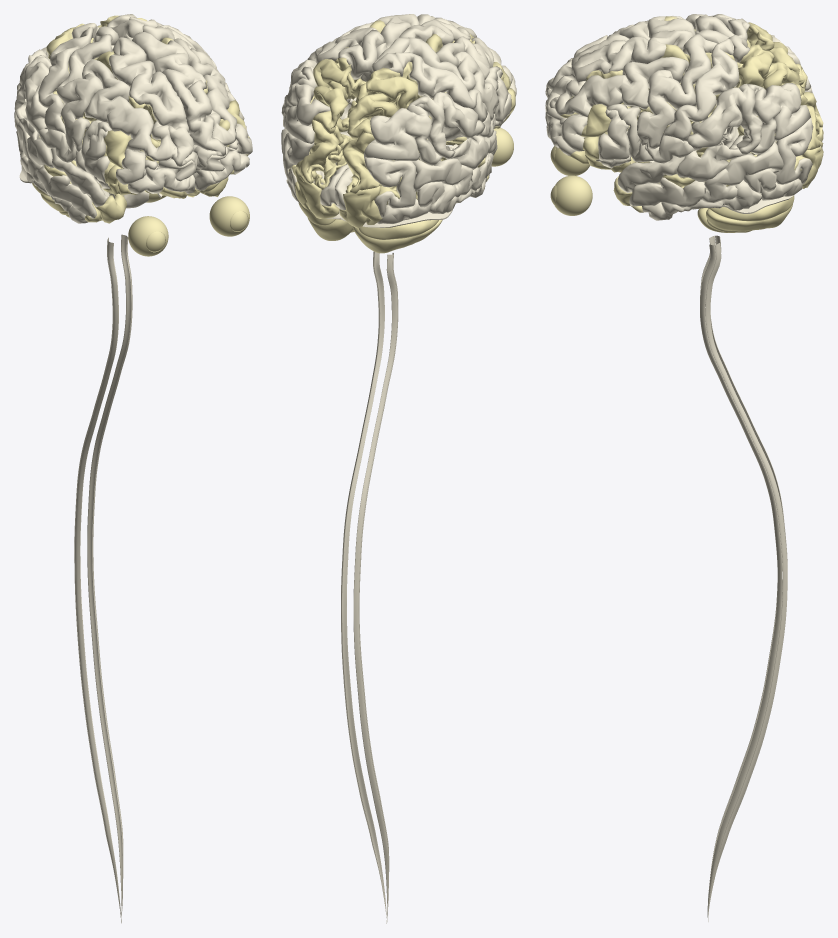
The model's file is head.glb.
3 renders of one model, left to right at view 1: azimuth 30°, elevation 25°; view 2: azimuth 150°, elevation 25°; view 3: azimuth 270°, elevation 25°, orthographic.
Parts seen in each view (by area): view 1: Anterior spinocerebellar tract.001, Middle frontal gyrus.r.001, Posterior spinocerebellar tract.001, Superior frontal gyrus.r.001, Superior frontal gyrus.l.001, Precentral gyrus.r.001, Middle frontal gyrus.l.001, Postcentral gyrus.r.001, Superior temporal gyrus (Lateral part).r.001, Middle temporal gyrus.r.001, Supramarginal gyrus.r.001, Orbital gyri (Frontomarginal gyrus and sulcus*).r.001 (+11 smaller); view 2: Posterior spinocerebellar tract.001, Anterior spinocerebellar tract.001, Angular gyrus.r.001, Superior parietal lobule.r.001, Supramarginal gyrus.r.001, Postcentral gyrus.r.001, Superior parietal lobule.l.001, Lateral occipital gyrus (Middle occipital gyrus*).r.001, Precentral gyrus.r.001, Angular gyrus.l.001, Middle temporal gyrus.r.001, Middle frontal gyrus.r.001 (+18 smaller); view 3: Middle frontal gyrus.l.001, Anterior spinocerebellar tract.001, Posterior spinocerebellar tract.001, Precentral gyrus.l.001, Middle temporal gyrus.l.001, Superior frontal gyrus.l.001, Supramarginal gyrus.l.001, Postcentral gyrus.l.001, Superior temporal gyrus (Lateral part).l.001, Angular gyrus.l.001, Inferior temporal gyrus.l.001, Superior frontal gyrus.r.001 (+13 smaller).
Part boxes in pixels (bbox=[...]): Anterior spinocerebellar tract.001: bbox=[75, 236, 132, 922]; Middle frontal gyrus.r.001: bbox=[82, 59, 177, 184]; Posterior spinocerebellar tract.001: bbox=[74, 234, 130, 920]; Superior frontal gyrus.r.001: bbox=[109, 37, 197, 168]; Superior frontal gyrus.l.001: bbox=[124, 32, 225, 173]; Precentral gyrus.r.001: bbox=[57, 34, 112, 151]; Middle frontal gyrus.l.001: bbox=[173, 38, 252, 154]; Postcentral gyrus.r.001: bbox=[38, 27, 93, 134]; Superior temporal gyrus (Lateral part).r.001: bbox=[20, 118, 107, 207]; Middle temporal gyrus.r.001: bbox=[14, 111, 96, 218]; Supramarginal gyrus.r.001: bbox=[14, 56, 51, 133]; Orbital gyri (Frontomarginal gyrus and sulcus*).r.001: bbox=[127, 163, 190, 193]; Posterior spinocerebellar tract.001: bbox=[341, 251, 397, 923]; Anterior spinocerebellar tract.001: bbox=[342, 252, 398, 922]; Angular gyrus.r.001: bbox=[364, 95, 448, 165]; Superior parietal lobule.r.001: bbox=[347, 67, 418, 139]; Supramarginal gyrus.r.001: bbox=[415, 92, 485, 159]; Postcentral gyrus.r.001: bbox=[395, 52, 487, 122]; Superior parietal lobule.l.001: bbox=[313, 57, 351, 133]; Lateral occipital gyrus (Middle occipital gyrus*).r.001: bbox=[364, 157, 415, 217]; Precentral gyrus.r.001: bbox=[404, 37, 498, 120]; Angular gyrus.l.001: bbox=[283, 66, 330, 143]; Middle temporal gyrus.r.001: bbox=[412, 153, 493, 197]; Middle frontal gyrus.r.001: bbox=[436, 36, 516, 95]; Middle frontal gyrus.l.001: bbox=[549, 57, 688, 151]; Anterior spinocerebellar tract.001: bbox=[700, 236, 782, 917]; Posterior spinocerebellar tract.001: bbox=[705, 235, 787, 921]; Precentral gyrus.l.001: bbox=[637, 33, 717, 149]; Middle temporal gyrus.l.001: bbox=[629, 141, 783, 207]; Superior frontal gyrus.l.001: bbox=[545, 30, 693, 112]; Supramarginal gyrus.l.001: bbox=[687, 83, 762, 155]; Postcentral gyrus.l.001: bbox=[662, 38, 739, 141]; Superior temporal gyrus (Lateral part).l.001: bbox=[617, 145, 743, 192]; Angular gyrus.l.001: bbox=[731, 83, 810, 154]; Inferior temporal gyrus.l.001: bbox=[642, 168, 779, 220]; Superior frontal gyrus.r.001: bbox=[545, 16, 698, 99].
Bounding box in the file's own units: 0.1378 × 0.6449 × 0.1807.
